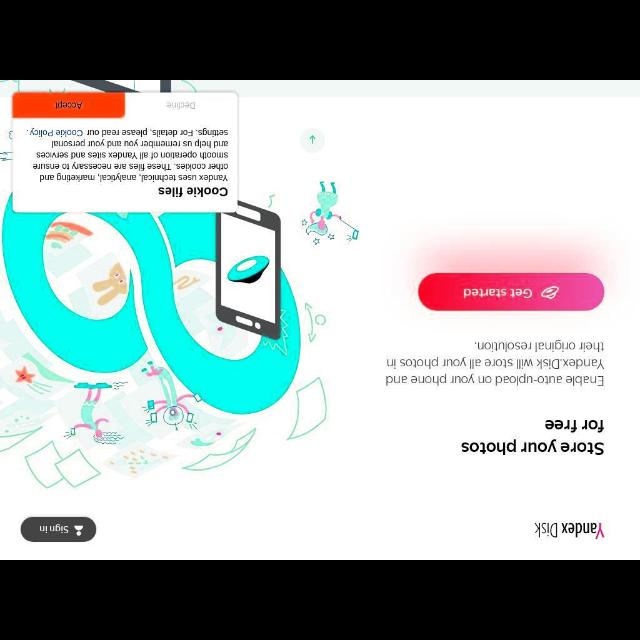icon: (540, 284, 558, 300), (73, 523, 85, 535)
iframe: (12, 93, 238, 211)
image: (3, 80, 363, 490), (534, 520, 604, 540)
link: (28, 129, 82, 137)
text: (28, 129, 226, 183), (383, 339, 603, 385), (460, 418, 606, 454), (462, 288, 532, 298), (158, 187, 228, 196), (52, 100, 84, 112), (167, 100, 196, 112), (38, 524, 68, 532)
textbutton: (415, 272, 605, 310), (10, 94, 126, 118), (21, 515, 95, 541)
